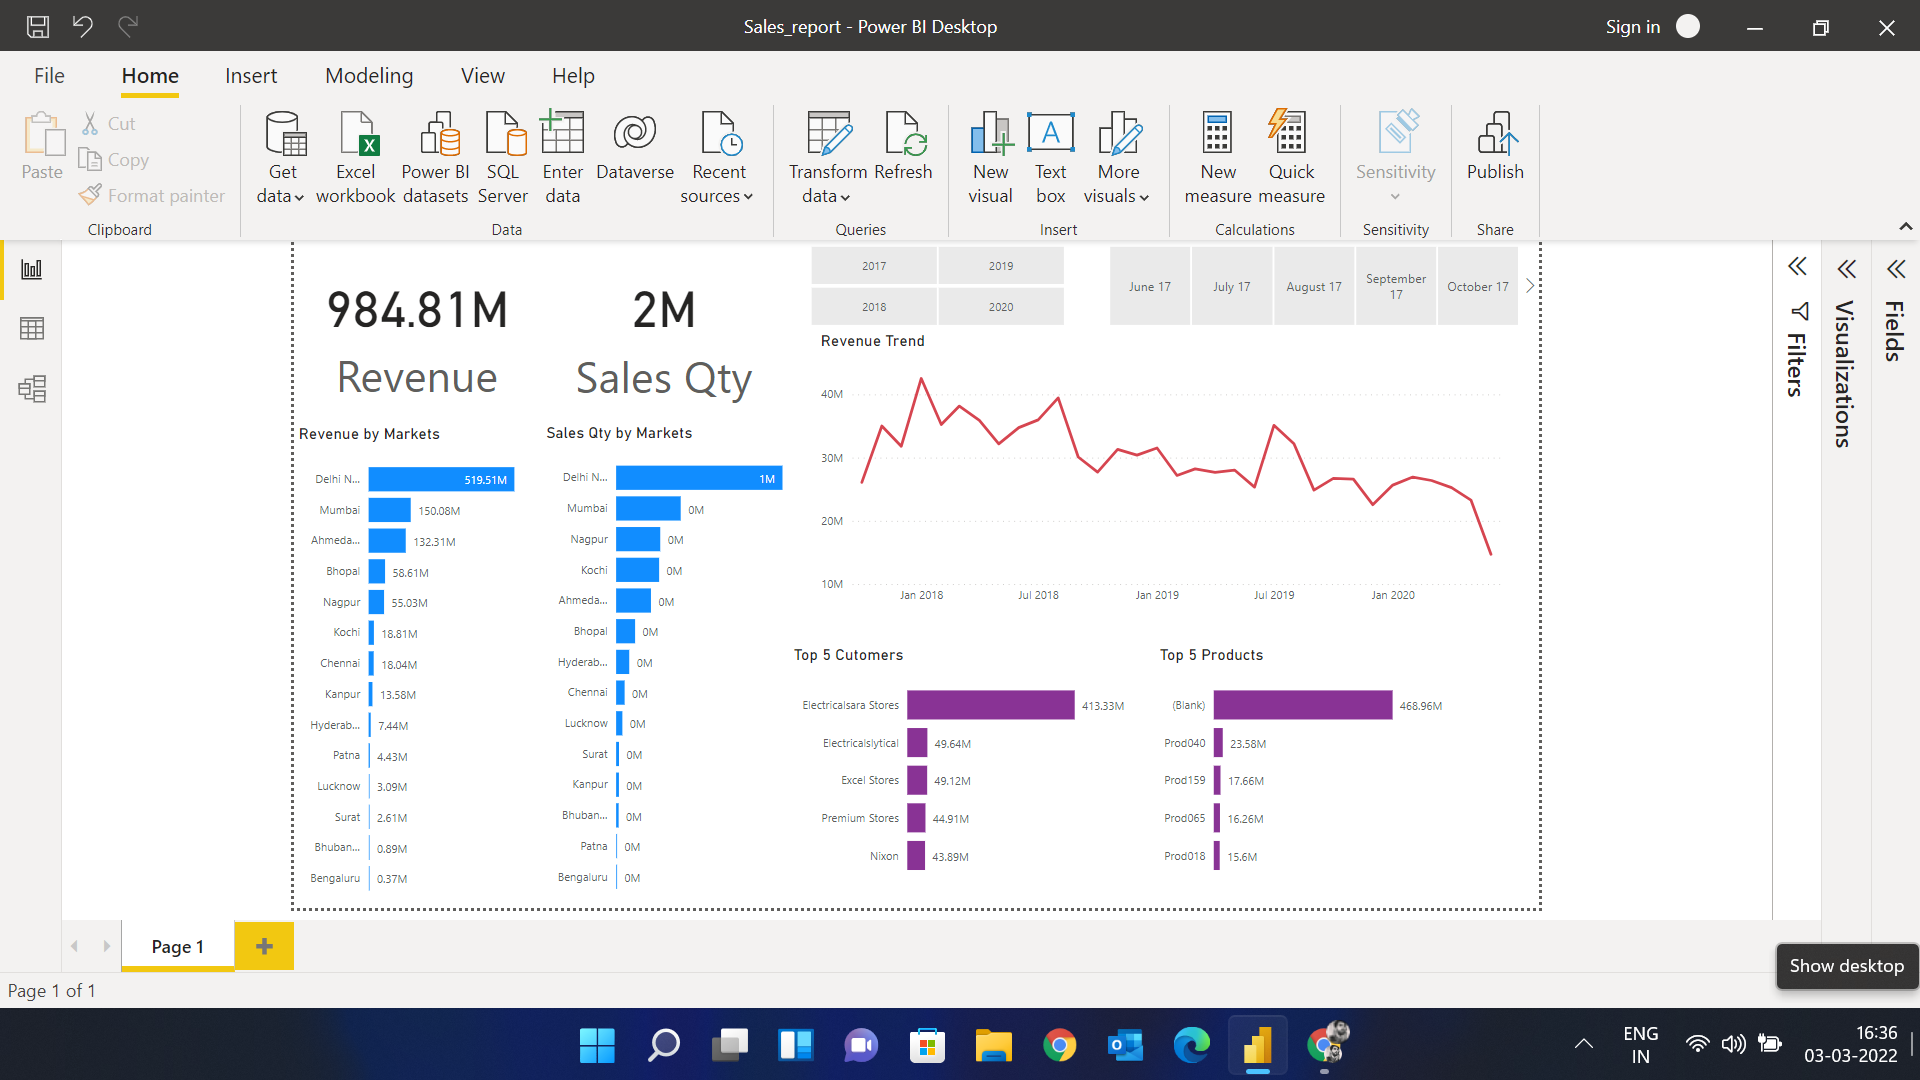

What the dashboard file says about the page in this screenshot:
{"tool":"powerbi","page":{"name":"Page 1","canvas":[1340,718],"ordinal":0},"visuals":[{"type":"card","fields":{"Values":["BaseMeasures.Revenue"]},"box":[0,0,264.6,196.8],"z":0},{"type":"card","fields":{"Values":["BaseMeasures.Sales Qty"]},"box":[264.6,0,266.2,198.5],"z":1000},{"type":"barChart","title":"Revenue by Markets","fields":{"Y":["BaseMeasures.Revenue"],"Category":["sales markets.markets_name"]},"box":[0,198.5,266.2,519.5],"z":2000},{"type":"barChart","title":"Sales Qty by Markets","fields":{"Y":["BaseMeasures.Sales Qty"],"Category":["sales markets.markets_name"]},"box":[266.2,196.8,266.2,519.5],"z":3000},{"type":"slicer","fields":{"Values":["sales date.year"]},"box":[530.8,0,321.1,98.4],"z":4000},{"type":"slicer","fields":{"Values":["sales date.cy_date"]},"box":[851.9,0,488.9,98.4],"z":5000},{"type":"barChart","title":"Top 5 Cutomers","fields":{"Y":["BaseMeasures.Revenue"],"Category":["sales customers.custmer_name"]},"box":[532.4,435.6,393.7,264.6],"z":6000},{"type":"barChart","title":"Top 5 Products","fields":{"Y":["BaseMeasures.Revenue"],"Category":["sales products.product_code"]},"box":[926.1,435.6,314.6,264.6],"z":7000},{"type":"lineChart","title":"Revenue Trend","fields":{"Y":["BaseMeasures.Revenue"],"Category":["sales date.cy_date"]},"box":[561.5,98.4,755.1,301.7],"z":7001}]}

Visuals, with their boxes in screenshot pixels (x1, y1, x2, y2):
card - BaseMeasures.Revenue: bbox=(0, 45, 286, 313)
card - BaseMeasures.Sales Qty: bbox=(286, 45, 648, 316)
"Revenue by Markets" barChart: bbox=(0, 316, 288, 1024)
"Sales Qty by Markets" barChart: bbox=(288, 313, 651, 1021)
slicer - sales date.year: bbox=(648, 45, 1086, 179)
slicer - sales date.cy_date: bbox=(1086, 45, 1752, 179)
"Top 5 Cutomers" barChart: bbox=(651, 639, 1187, 999)
"Top 5 Products" barChart: bbox=(1187, 639, 1616, 999)
"Revenue Trend" lineChart: bbox=(690, 179, 1719, 590)
